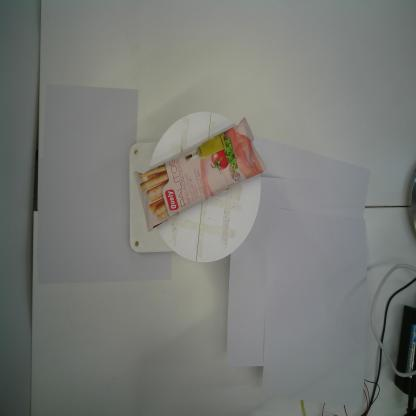Dessert: (134, 116, 268, 231)
